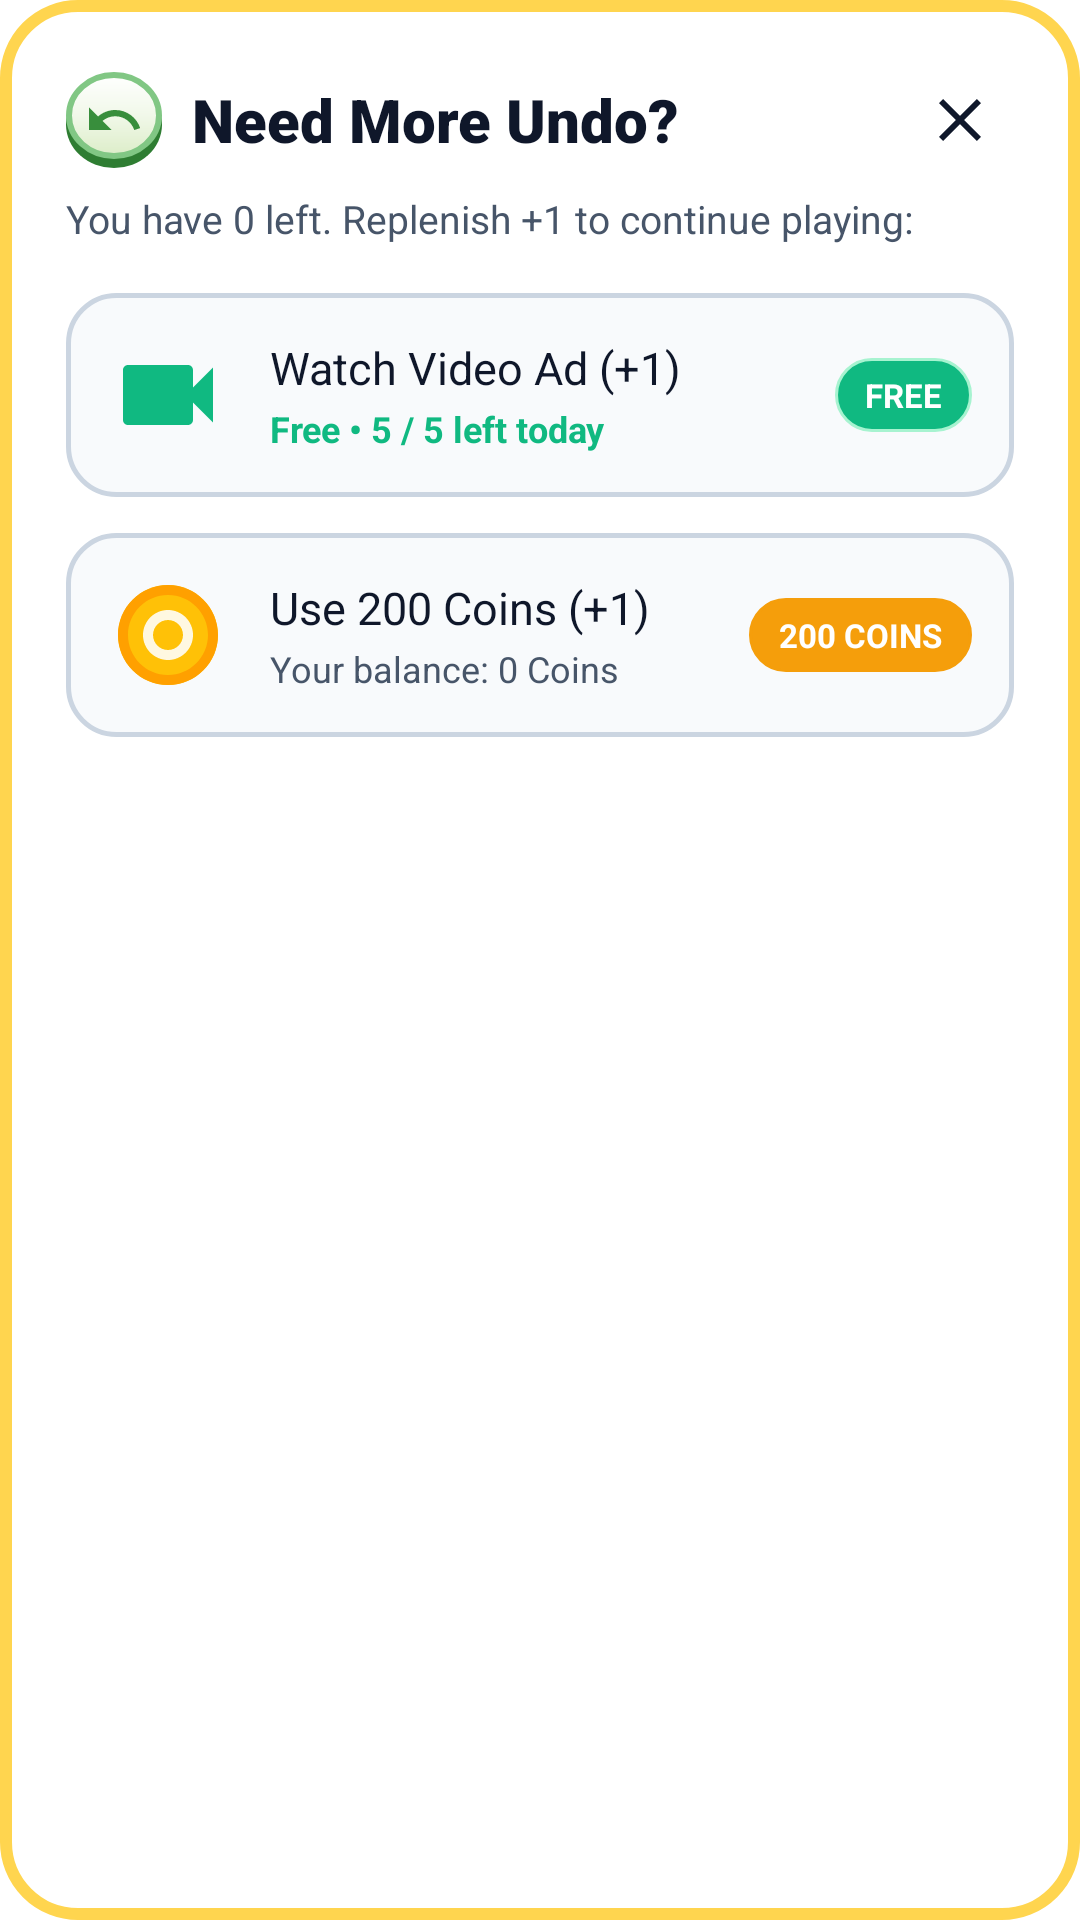

Where icons sit on this 1080*1920 app screen, as bbox=[x1, y1, x2, y2]:
close: bbox=[939, 99, 981, 141]
